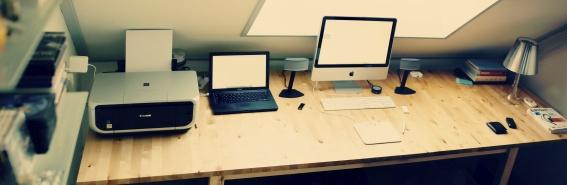AIO PC-Monitor-TV: (309, 15, 397, 80)
Meja: (74, 68, 566, 183)
Printer: (87, 28, 199, 134)
